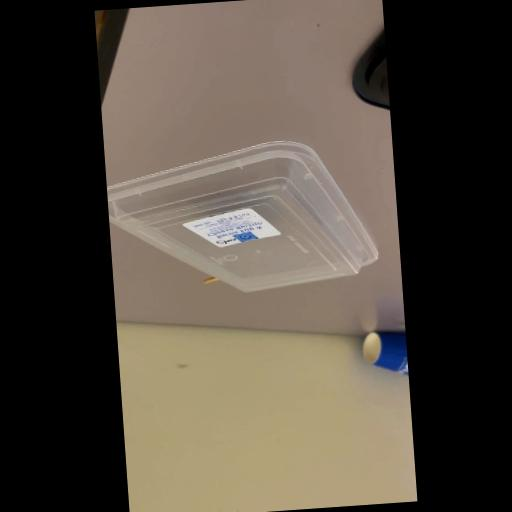lp_paper_cup: (362, 326, 408, 378)
rigid_plastic_lid: (104, 138, 380, 304)
